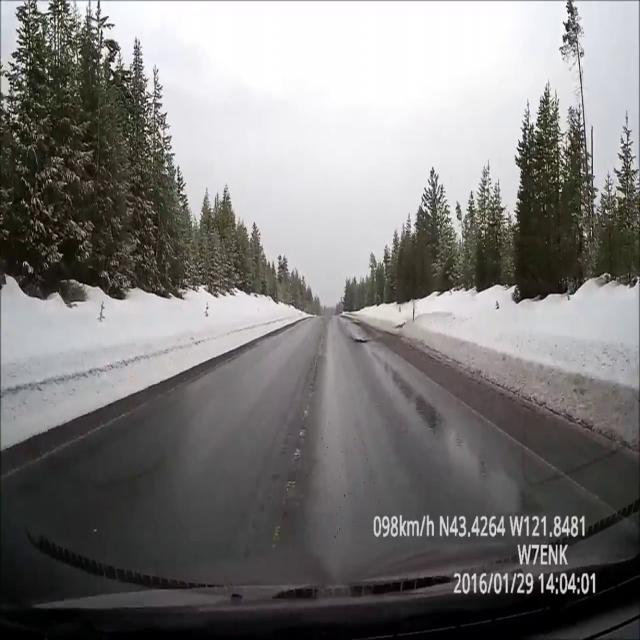Pothole: (353, 338, 370, 344)
